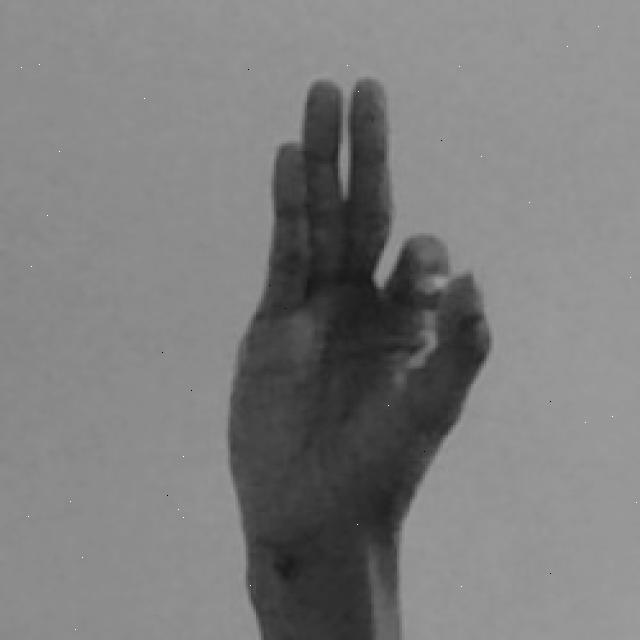F: (225, 74, 494, 640)
